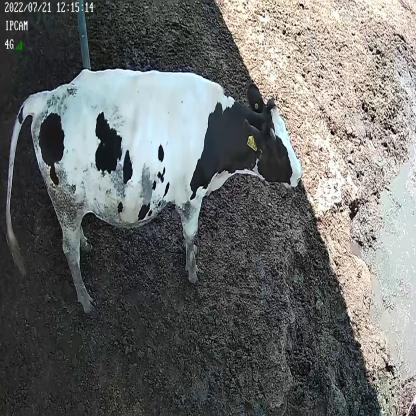cow: (5, 63, 302, 310)
